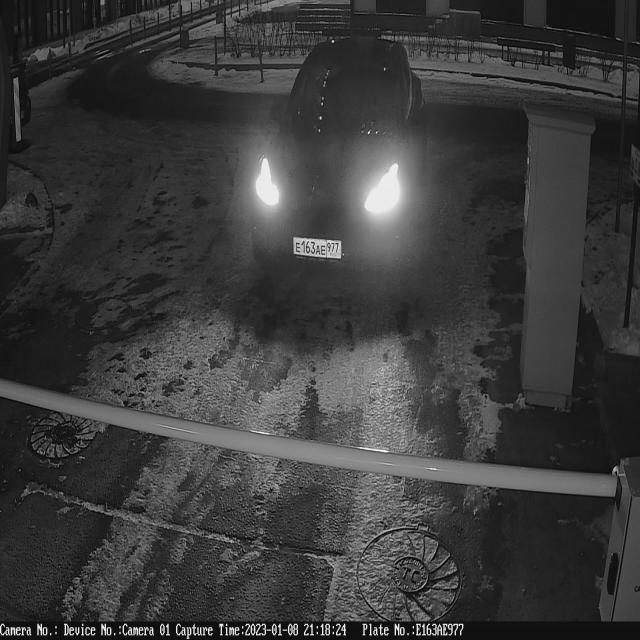car-plate-numbers: (289, 229, 345, 264)
